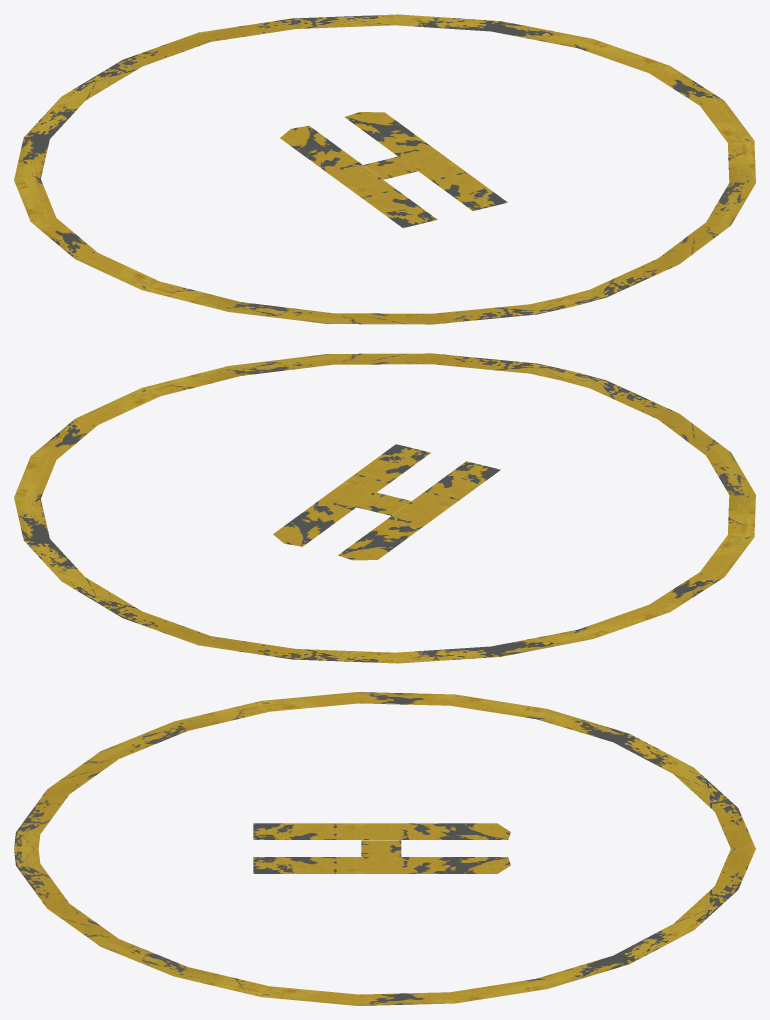
File: BuildingJkToutite.glb
3 views of the same model, one above another, from view 1: azimuth 30°, elevation 25°; view 2: azimuth 150°, elevation 25°; view 3: azimuth 270°, elevation 25° (orthographic).
Parts seen in each view (by area): view 1: xiutz_building_jk_toutite; view 2: xiutz_building_jk_toutite; view 3: xiutz_building_jk_toutite.
Boxes of the visible parts, x1,y1,x2,y2 form: xiutz_building_jk_toutite: (14, 14, 755, 324); xiutz_building_jk_toutite: (14, 353, 755, 663); xiutz_building_jk_toutite: (14, 692, 755, 1005).
Size of the model in its own units: 6.93 by 0.0199 by 6.92.
1 material, 1 textured.
